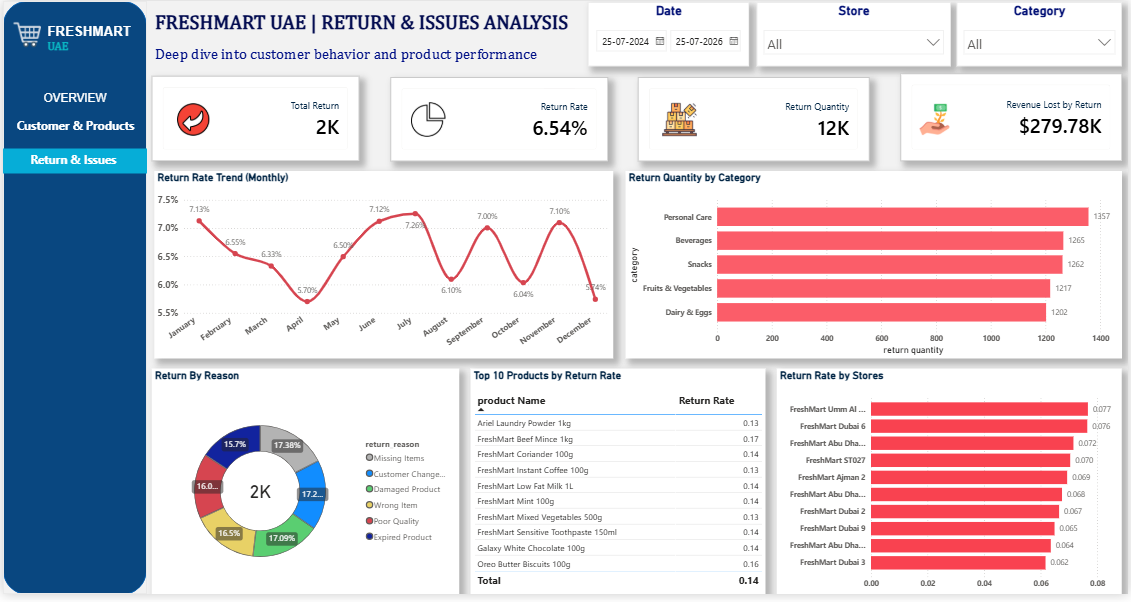

The dashboard page shown, as its layout file describes it:
{"tool":"powerbi","page":{"name":" Return & Issue Analysis","canvas":[1800,950],"ordinal":2},"visuals":[{"type":"shape","box":[0,0,230,950],"z":0},{"type":"textbox","box":[0,140,230,31.4],"z":1000},{"type":"textbox","box":[2,182,228,44],"z":2000},{"type":"textbox","box":[0,235,230,40],"z":3000},{"type":"textbox","box":[66,32,152,84],"z":4000},{"type":"image","box":[12,32,54,44],"z":5000},{"type":"textbox","box":[238,12,678,104],"z":6000},{"type":"slicer","title":"Date","fields":{"Values":["orders.order_date"]},"box":[935,2.5,257.5,102.5],"z":7000},{"type":"slicer","title":"Store","fields":{"Values":["stores.store_name"]},"box":[1205,2.5,310,102.5],"z":8000},{"type":"slicer","title":"Category","fields":{"Values":["products.category"]},"box":[1526,2,264,102],"z":9000},{"type":"cardVisual","fields":{"Data":["returns.Total Return"]},"box":[238,120,332,136],"z":10000},{"type":"cardVisual","fields":{"Data":["returns.Return Rate"]},"box":[620,122,348,134],"z":11000},{"type":"cardVisual","fields":{"Data":["returns.return quantity"]},"box":[1016,122,370,134],"z":12000},{"type":"cardVisual","fields":{"Data":["returns.Revenue Lost by Return"]},"box":[1436,116,354,140],"z":13000},{"type":"lineChart","title":"Return Rate Trend (Monthly)","fields":{"Y":["returns.Return Rate"],"Category":["customers.join_date.Variation.Date Hierarchy.Month"]},"box":[242,272,734,300],"z":14000},{"type":"clusteredBarChart","title":"Return Quantity by Category","fields":{"Category":["products.category"],"Y":["returns.return quantity"]},"box":[996,272,794,300],"z":15000},{"type":"donutChart","title":"Return By Reason","fields":{"Category":["returns.return_reason"],"Y":["returns.Total Return"]},"box":[238,588,492,362],"z":16000},{"type":"tableEx","title":"Top 10 Products by Return Rate","fields":{"Values":["products.product_name","returns.Return rate by quantity"]},"box":[748,588,472,362],"z":17000},{"type":"clusteredBarChart","title":"Return Rate by Stores","fields":{"Category":["stores.store_name"],"Y":["returns.Return rate by quantity"]},"box":[1238,588,552,362],"z":18000},{"type":"image","box":[644,162,72.5,55],"z":19000},{"type":"image","box":[268,162,72.5,55],"z":20000},{"type":"image","box":[1454,162,72.5,55],"z":21000},{"type":"image","box":[1046,162,72.5,55],"z":22000}]}

Visuals, with their boxes in screenshot pixels (x1, y1, x2, y2), scaled from the page's 1800x950 canvas onto the 1131x602 screenshot:
shape: 0/0/145/601
textbox: 0/89/145/109
textbox: 1/115/145/143
textbox: 0/149/145/174
textbox: 41/20/137/74
image: 8/20/41/48
textbox: 150/8/576/74
"Date" slicer: 587/2/749/67
"Store" slicer: 757/2/952/67
"Category" slicer: 959/1/1125/66
cardVisual - returns.Total Return: 150/76/358/162
cardVisual - returns.Return Rate: 390/77/608/162
cardVisual - returns.return quantity: 638/77/871/162
cardVisual - returns.Revenue Lost by Return: 902/74/1125/162
"Return Rate Trend (Monthly)" lineChart: 152/172/613/362
"Return Quantity by Category" clusteredBarChart: 626/172/1125/362
"Return By Reason" donutChart: 150/373/459/601
"Top 10 Products by Return Rate" tableEx: 470/373/767/601
"Return Rate by Stores" clusteredBarChart: 778/373/1125/601
image: 405/103/450/138
image: 168/103/214/138
image: 914/103/959/138
image: 657/103/703/138
